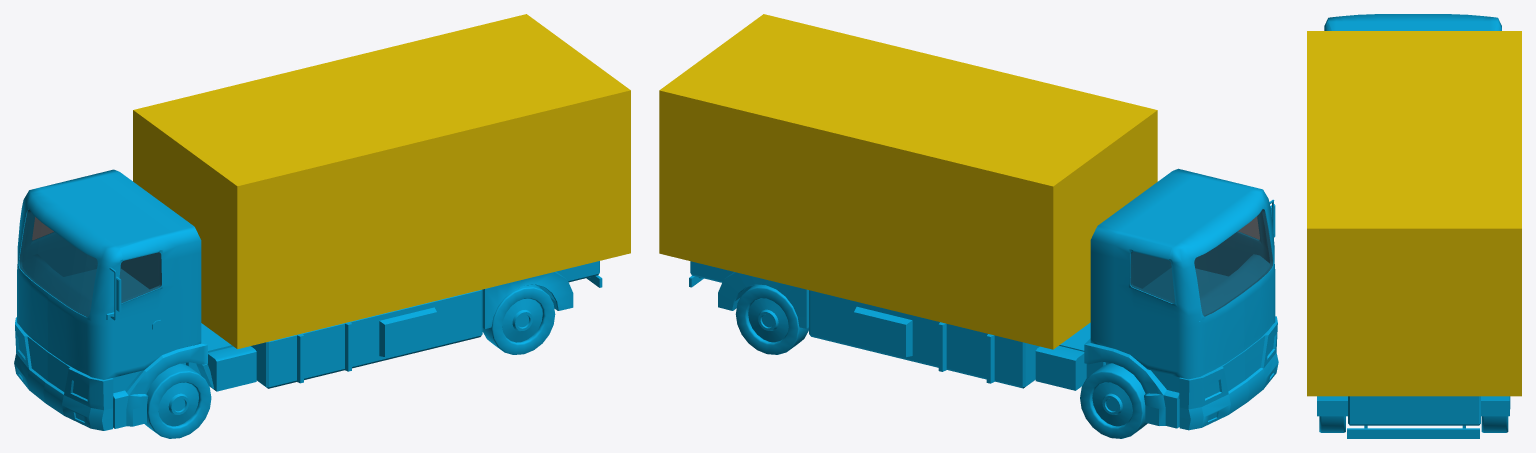
Rendered from Truck_02_Lod0.fbx.
3 views of the same model, side by side, from view 1: azimuth 30°, elevation 25°; view 2: azimuth 150°, elevation 25°; view 3: azimuth 270°, elevation 25° (orthographic). The views are drawn at different scales.
Visible parts, largest first — view 1: Truck_02_Lod0; view 2: Truck_02_Lod0; view 3: Truck_02_Lod0.
Boxes of the visible parts, bbox=[...] form: Truck_02_Lod0: bbox=[14, 14, 630, 438]; Truck_02_Lod0: bbox=[659, 14, 1278, 438]; Truck_02_Lod0: bbox=[1307, 14, 1521, 438].
Size of the model in its own units: 1007 by 439 by 339.
